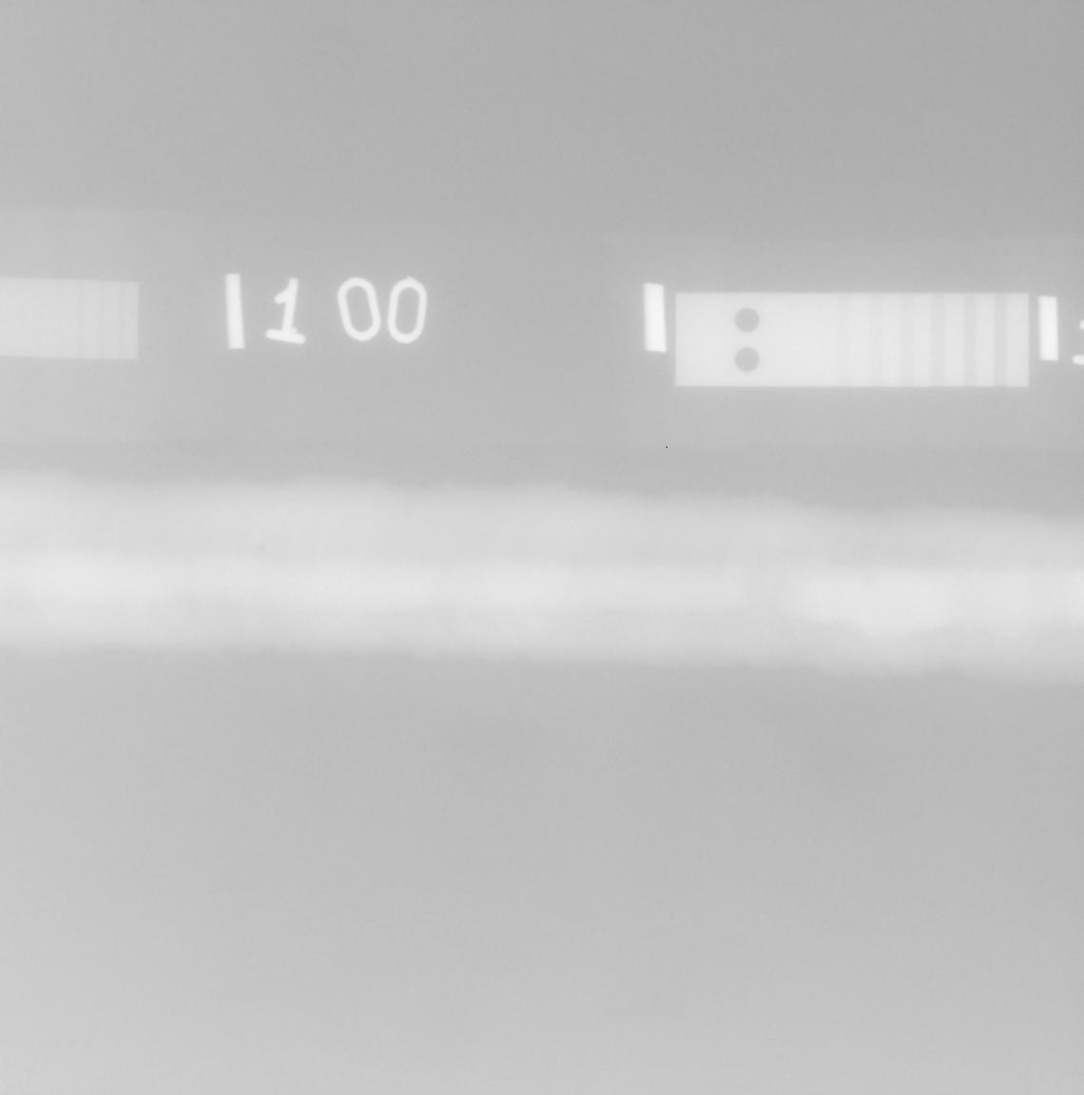Inclusion: (1052, 616, 1068, 618)
Pore/Porosity: (257, 546, 264, 554), (691, 612, 696, 616)
Reference Standard 2: (675, 291, 1030, 386)
